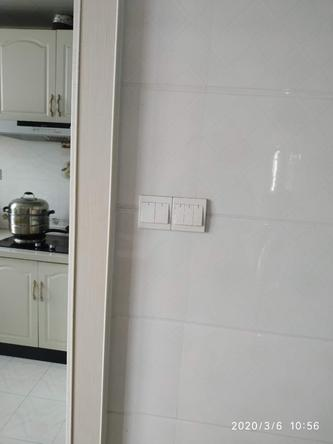switch: (155, 200, 170, 224), (140, 200, 154, 225), (185, 202, 194, 228), (175, 201, 184, 226), (195, 204, 204, 226)
